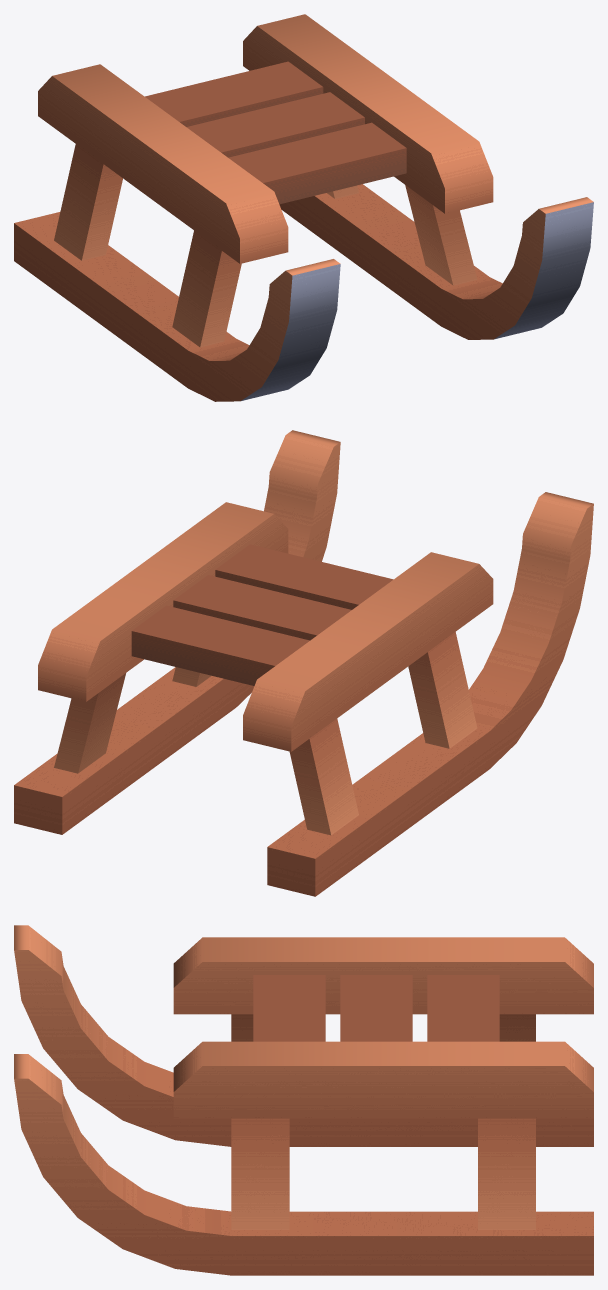
File: sled.glb
3 views of the same model, one above another, from view 1: azimuth 30°, elevation 25°; view 2: azimuth 150°, elevation 25°; view 3: azimuth 270°, elevation 25° (orthographic). The views are drawn at different scales.
Parts seen in each view (by area): view 1: sled; view 2: sled; view 3: sled.
Part boxes in pixels (left/top/right/bottom): sled: left=14, top=14, right=593, bottom=401; sled: left=14, top=430, right=593, bottom=896; sled: left=14, top=925, right=593, bottom=1275.
Size of the model in its own units: 1.88 by 1.13 by 3.
Materials: 1 (1 with a texture image).
